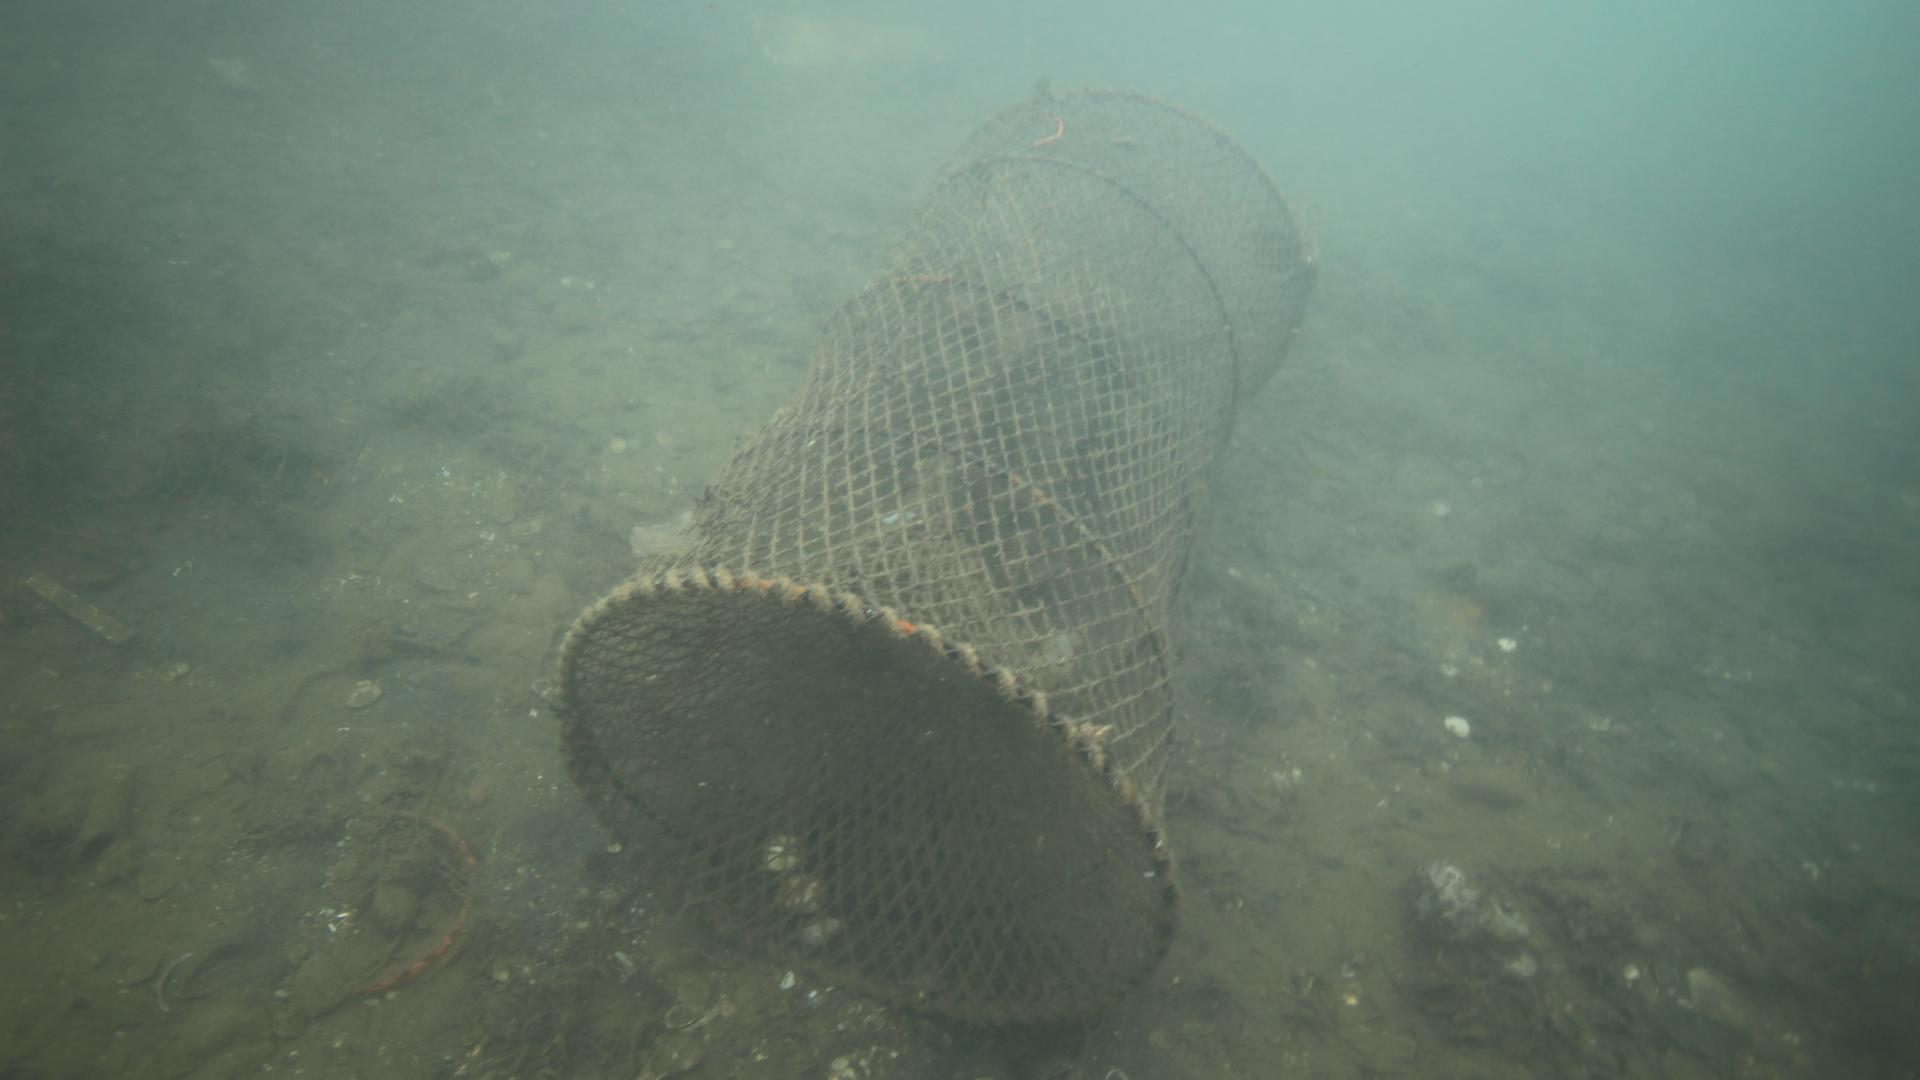spring fish trap: (551, 88, 1320, 1036)
